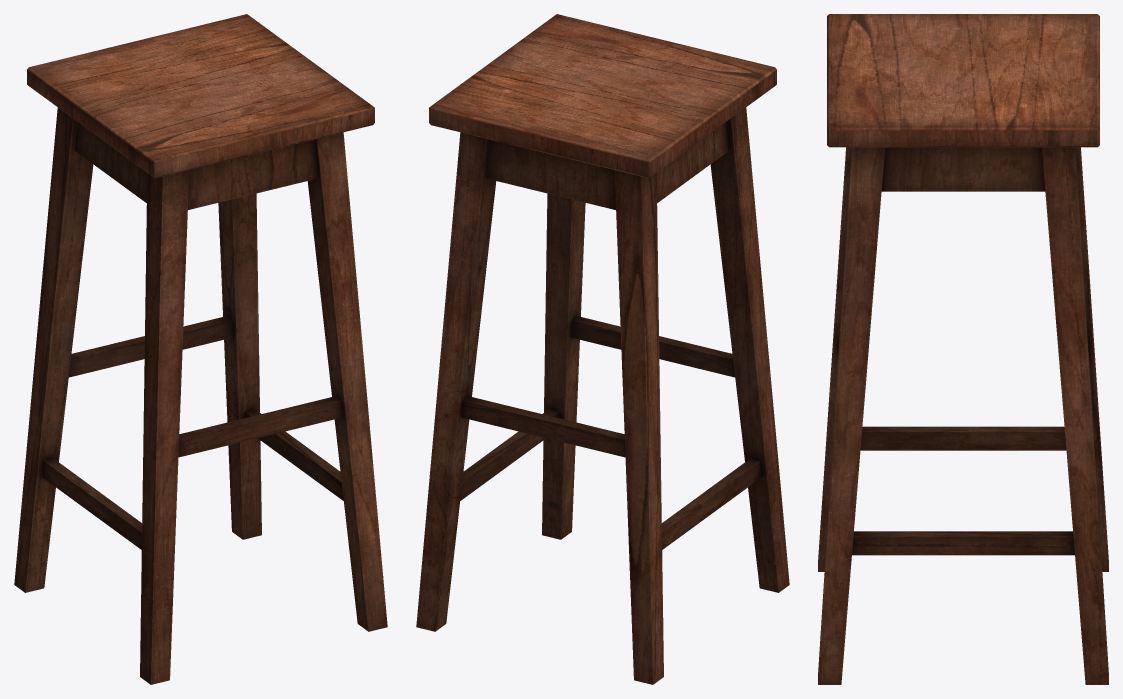
The model's file is wooden_stool_low_poly (1).glb.
The picture shows the model from 3 angles, left to right: view 1: azimuth 30°, elevation 25°; view 2: azimuth 150°, elevation 25°; view 3: azimuth 270°, elevation 25°; orthographic projection. The views are drawn at different scales.
Parts seen in each view (by area): view 1: top_low, leg_03_low, leg_02_low, leg_04_low, leg_01_low, rim_03_low, support_02_low, support_04_low, support_03_low, rim_04_low, support_01_low; view 2: top_low, leg_04_low, leg_01_low, leg_03_low, leg_02_low, rim_01_low, support_04_low, support_02_low, support_03_low, rim_04_low, support_01_low; view 3: top_low, leg_02_low, leg_01_low, rim_02_low, support_01_low, support_03_low, leg_04_low, leg_03_low.
Boxes of the visible parts, bbox=[...] form: top_low: bbox=[27, 14, 374, 178]; leg_03_low: bbox=[140, 170, 189, 684]; leg_02_low: bbox=[307, 132, 387, 631]; leg_04_low: bbox=[14, 107, 93, 592]; leg_01_low: bbox=[218, 193, 261, 539]; rim_03_low: bbox=[188, 139, 318, 209]; support_02_low: bbox=[178, 396, 342, 457]; support_04_low: bbox=[68, 316, 233, 377]; support_03_low: bbox=[42, 458, 142, 549]; rim_04_low: bbox=[75, 122, 147, 203]; support_01_low: bbox=[244, 409, 343, 500]; top_low: bbox=[429, 14, 776, 178]; leg_04_low: bbox=[614, 170, 663, 684]; leg_01_low: bbox=[416, 132, 496, 631]; leg_03_low: bbox=[710, 107, 789, 592]; leg_02_low: bbox=[542, 193, 585, 539]; rim_01_low: bbox=[485, 139, 615, 209]; support_04_low: bbox=[461, 396, 625, 457]; support_02_low: bbox=[570, 316, 735, 377]; support_03_low: bbox=[661, 458, 761, 549]; rim_04_low: bbox=[656, 122, 728, 203]; support_01_low: bbox=[460, 409, 559, 500]; top_low: bbox=[827, 14, 1099, 147]; leg_02_low: bbox=[818, 147, 885, 684]; leg_01_low: bbox=[1041, 147, 1108, 684]; rim_02_low: bbox=[881, 147, 1045, 191]; support_01_low: bbox=[852, 531, 1074, 555]; support_03_low: bbox=[860, 426, 1066, 450]; leg_04_low: bbox=[1075, 147, 1108, 571]; leg_03_low: bbox=[818, 147, 851, 571].
Bounding box in the file's own units: 0.1629 × 0.3415 × 0.1629.
Materials: 1 (1 with a texture image).
